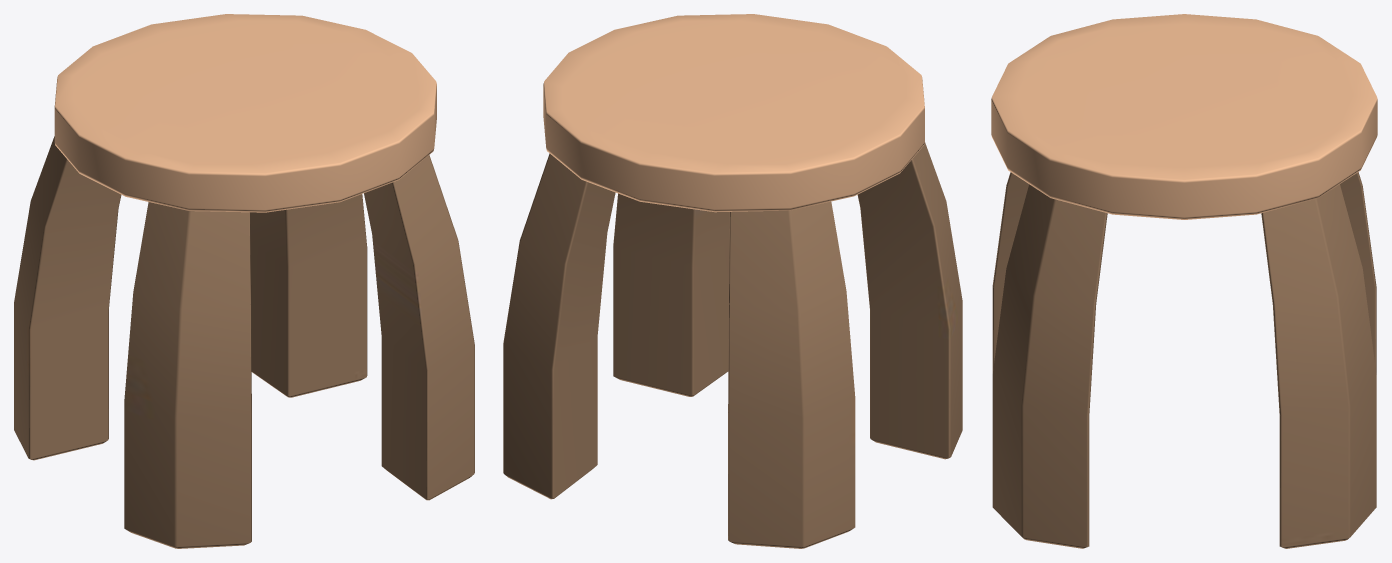
The model's file is xhair.fbx.
3 renders of one model, left to right at view 1: azimuth 30°, elevation 25°; view 2: azimuth 150°, elevation 25°; view 3: azimuth 270°, elevation 25°, orthographic. The views are drawn at different scales.
Parts seen in each view (by area): view 1: pCube82; view 2: pCube82; view 3: pCube82.
Boxes of the visible parts, x1,y1,x2,y2 form: pCube82: (14,14,474,548); pCube82: (503,14,962,548); pCube82: (991,14,1377,548).
Bounding box in the file's own units: 14.85 × 15.25 × 14.38.
1 material, 1 textured.
